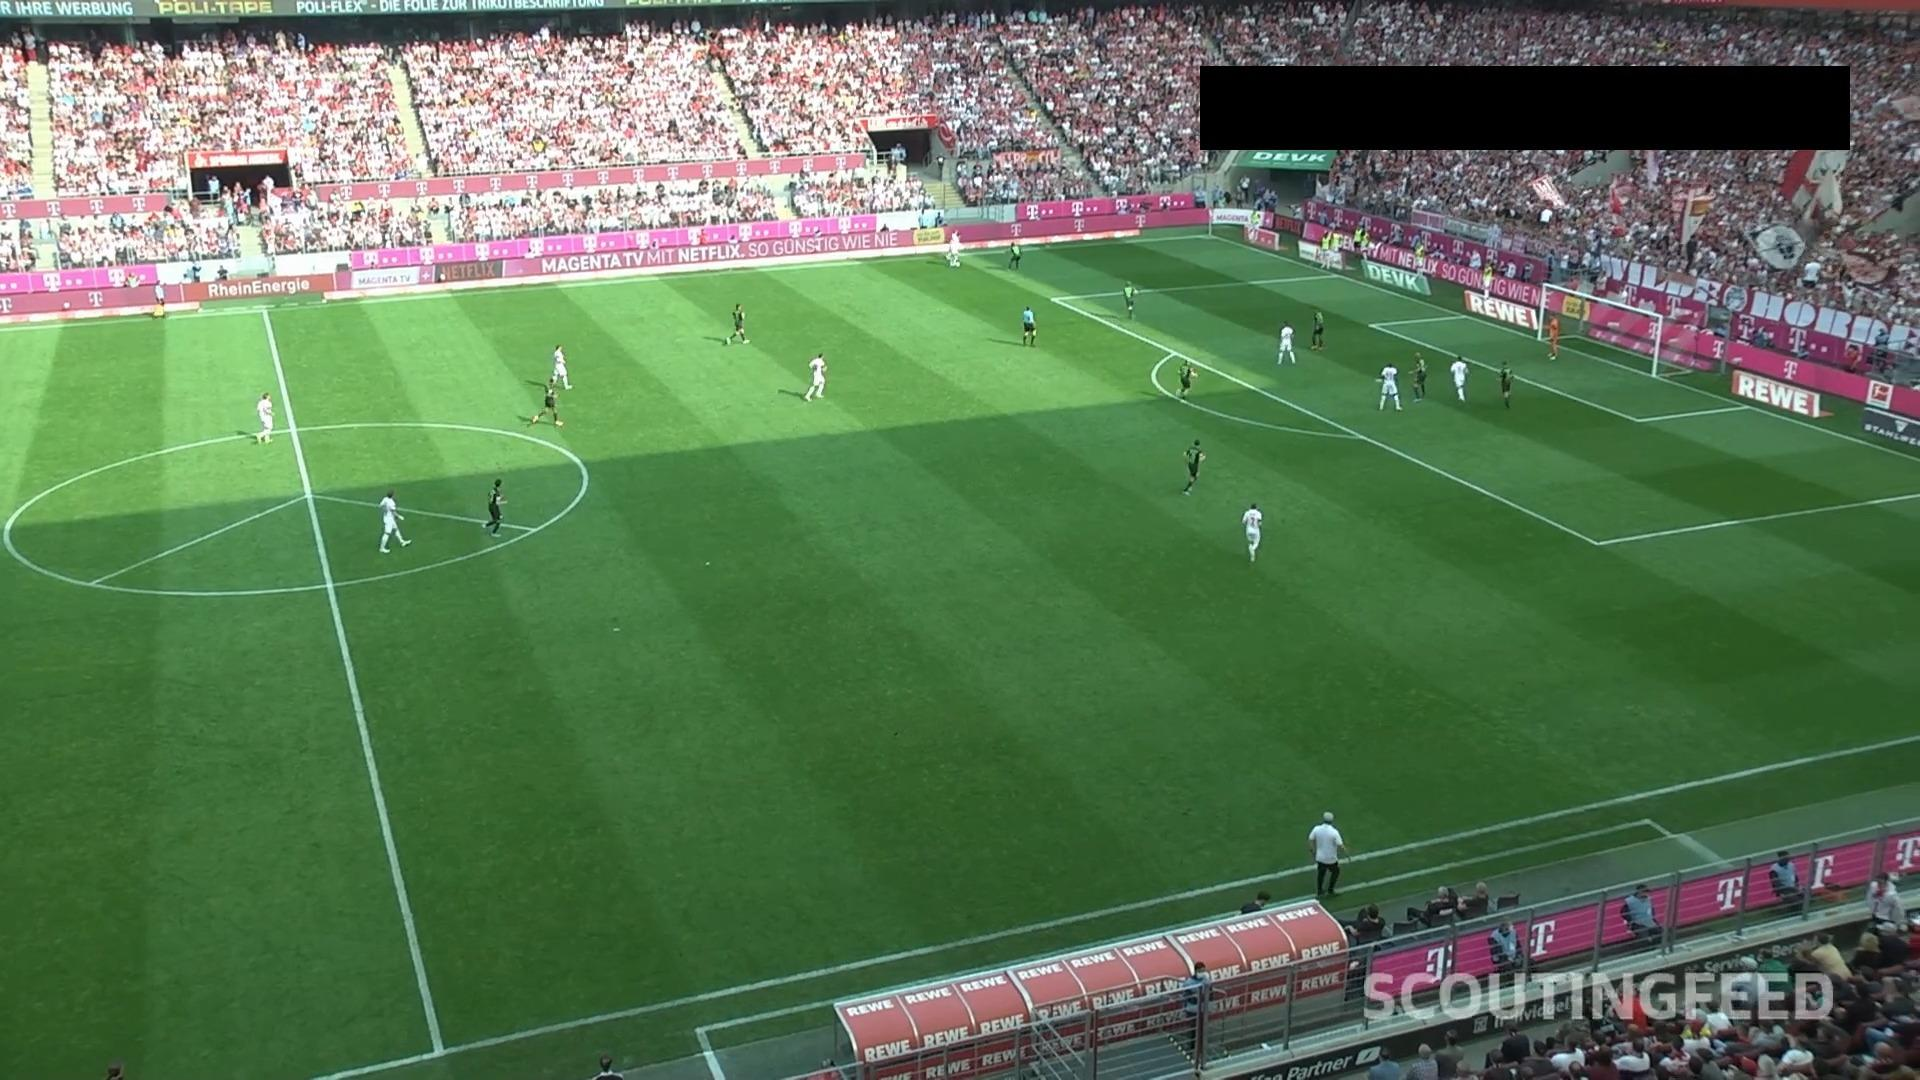ball: (955, 261, 961, 268)
